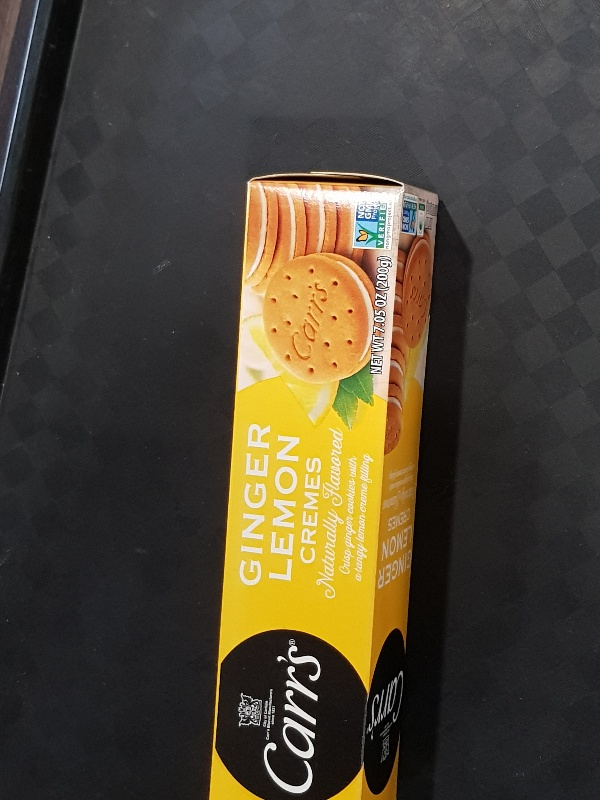Carr's Ginger Lemon Cremes: (208, 170, 440, 800)
